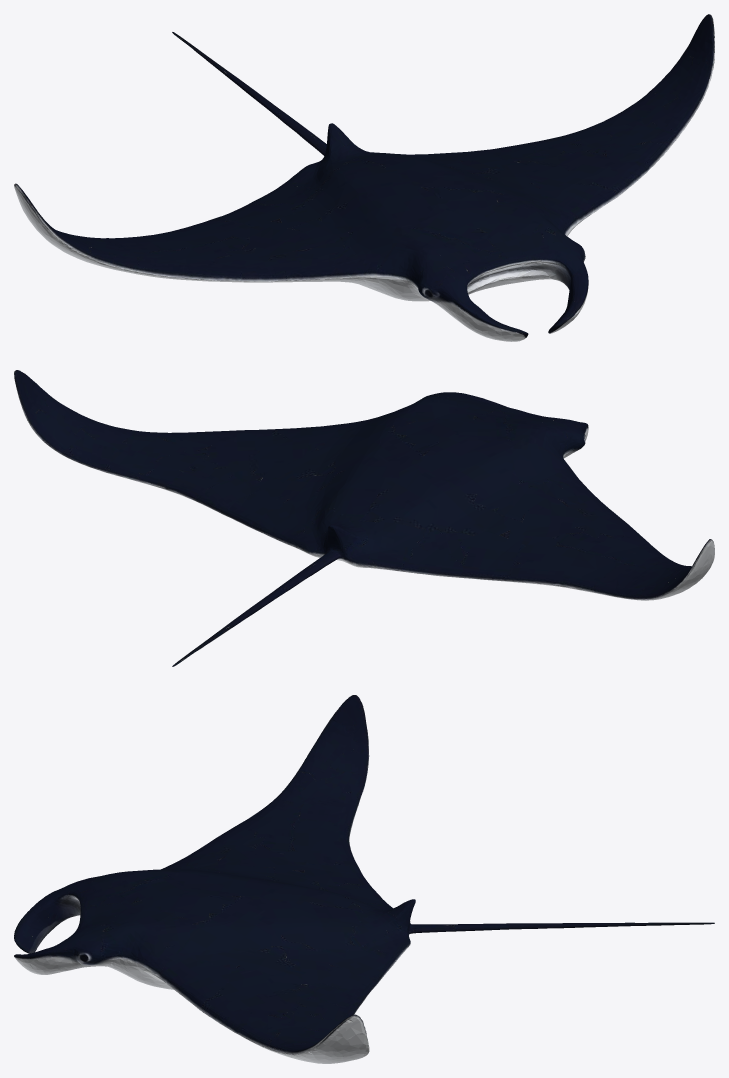
Rendered from meshy-manta.glb.
3 views of the same model, one above another, from view 1: azimuth 30°, elevation 25°; view 2: azimuth 150°, elevation 25°; view 3: azimuth 270°, elevation 25° (orthographic). The views are drawn at different scales.
Visible parts, largest first — view 1: mesh_node; view 2: mesh_node; view 3: mesh_node.
Boxes of the visible parts, left/top/right/bottom form: mesh_node: left=14, top=14, right=714, bottom=341; mesh_node: left=14, top=370, right=714, bottom=666; mesh_node: left=14, top=695, right=714, bottom=1063.
Size of the model in its own units: 1.9 by 0.3114 by 1.75.
Materials: 1 (1 with a texture image).
